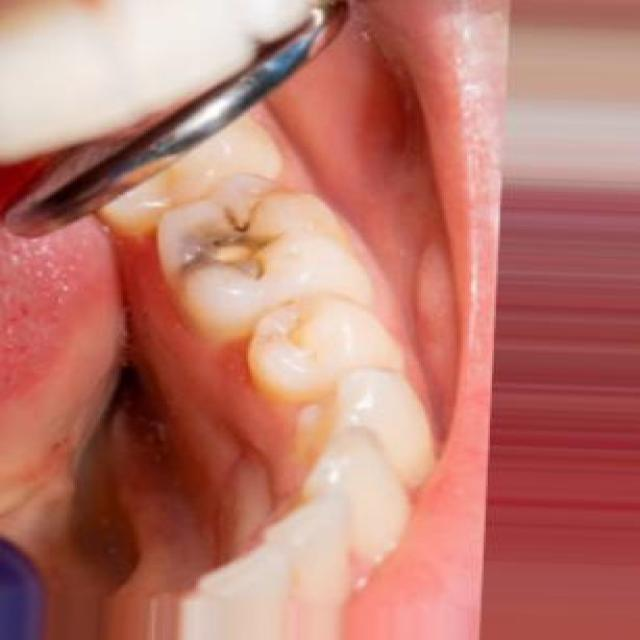caries: (151, 198, 304, 296)
